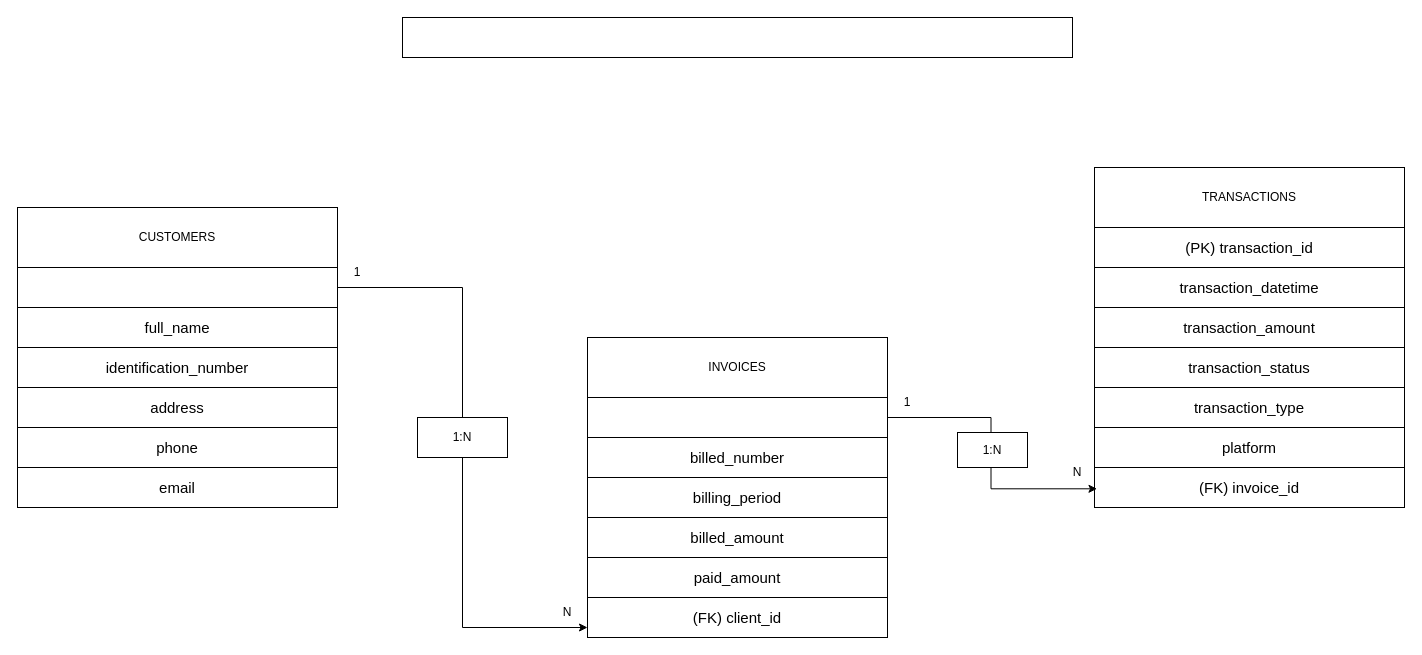
Some shapes in this 1422 by 655 pixel diagram are drawn without their labels. The box of each missing label's shape, as (x1, y1, x2, y2) in pixels:
(PK) cliend_id: (16, 266, 338, 308)
(PK) invoice_id: (586, 396, 888, 438)
MODELO ENTIDAD RELACION - ExpertSoft: (402, 16, 1072, 58)
